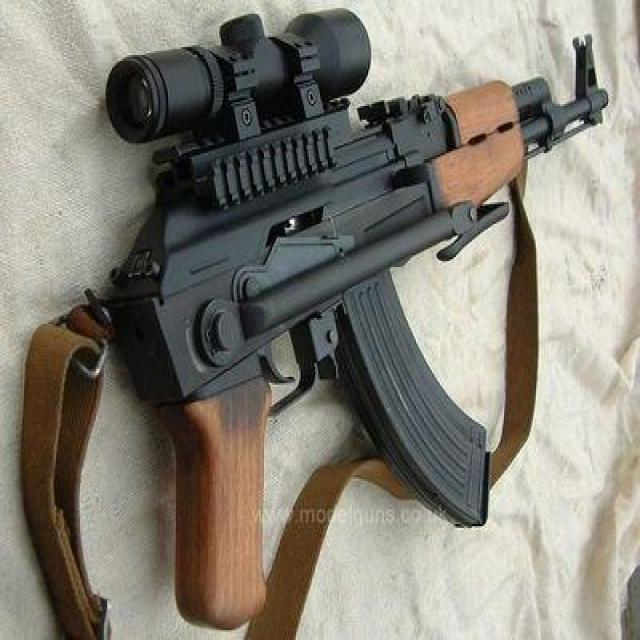weapon: (104, 5, 611, 633)
